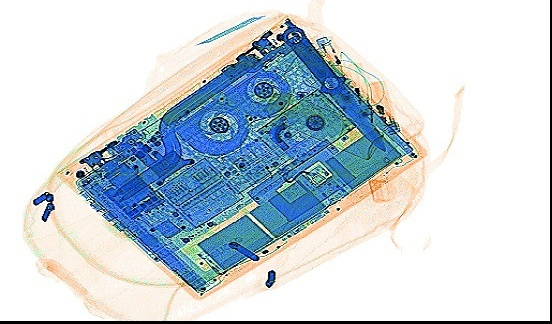knife: (280, 23, 386, 151)
lighter: (312, 32, 355, 91), (368, 78, 401, 134), (344, 58, 370, 120)
pressure: (248, 81, 384, 160)
